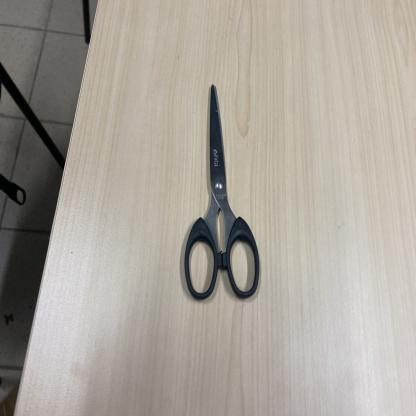scissors: (184, 84, 262, 301)
